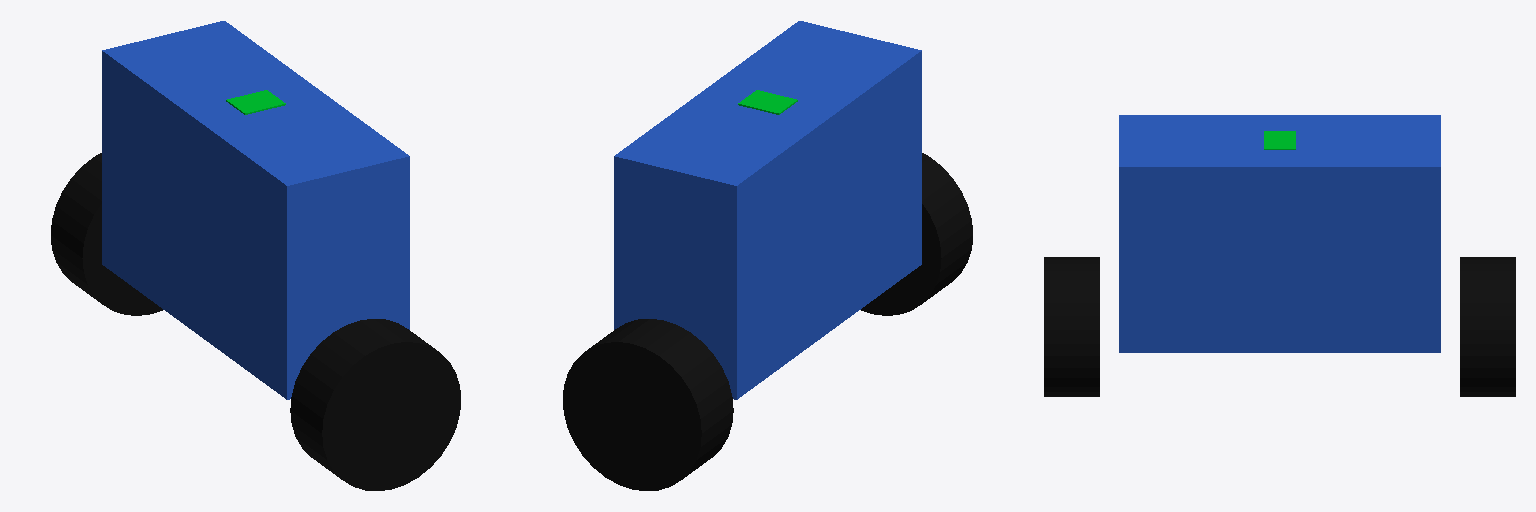
URDF robot description (balancebot_v3):
<?xml version="1.0" ?>
<!--
  balancebot_v3.urdf
  ==========================================

  PHYSICAL PARAMETERS (all measured/confirmed):
    Wheel radius:   0.03405m  (68.1mm diameter / 2, caliper measured)
    Wheel width:    0.027m    (27.0mm, caliper measured)
    Wheelbase:      0.203m    (centre-to-centre, derived below)
    Body width (Y): 0.157m    (15.7cm, measured)
    Body height(Z): 0.100m    (10.0cm, measured)
    Body depth (X): 0.060m    (estimated, adjust if needed)
    Body mass:      0.500kg   (estimate, weigh after assembly)

  WHEELBASE DERIVATION:
    Total measured span (L wheel centre → R wheel centre) = 20.3cm
    Box width = 15.7cm → half = 7.85cm
    Gap each side = (20.3 - 15.7) / 2 = 2.3cm
    Wheel centre Y offset = 7.85 + 2.3 = 10.15cm = 0.1015m
    Full wheelbase = 2 × 0.1015 = 0.203m

  MOTOR: Cytron SPG30-20K
    12V, 225RPM, 128mNm torque, 20:1 gear ratio
    No encoder — velocity observations removed

  IMU: MPU6050
    Mounted at TOP of body, perfectly centred
    Provides: pitch, pitch_rate, yaw, yaw_rate
    In PyBullet: readings come from getBasePositionAndOrientation()
                 and getBaseVelocity() on base_link
    The imu_link here represents physical mass/position of MPU6050
    so centre of mass calculation is accurate

  COORDINATE SYSTEM:
    X = forward/backward
    Y = left/right
    Z = up (gravity = -Z)

  SPAWN HEIGHT = wheel radius = 0.03405m
  so wheels sit exactly on ground plane at Z=0

  JOINT INDICES (used in balance_env_v2.py):
    joint 1 = left wheel
    joint 2 = right wheel
    joint 3 = imu (fixed — no movement)
-->

<robot name="balancebot_v3">

  <!-- ═══════════════════════════════════════════════════════════
       BASE LINK (robot body frame)
       Origin at wheel axle level, centred left-right and front-back
       Visual origin offset upward by half body height (0.05m)
  ═══════════════════════════════════════════════════════════ -->
  <link name="base_link">
    <visual>
      <origin xyz="0 0 0.05" rpy="0 0 0"/>
      <geometry>
        <!-- depth(X)=0.06  width(Y)=0.157  height(Z)=0.10 -->
        <box size="0.06 0.157 0.10"/>
      </geometry>
      <material name="blue">
        <color rgba="0.2 0.4 0.8 1.0"/>
      </material>
    </visual>
    <collision>
      <origin xyz="0 0 0.05" rpy="0 0 0"/>
      <geometry>
        <box size="0.06 0.157 0.10"/>
      </geometry>
    </collision>
    <inertial>
      <origin xyz="0 0 0.05" rpy="0 0 0"/>
      <mass value="0.500"/>
      <!--
        Inertia for box: depth(X)=0.06, width(Y)=0.157, height(Z)=0.10, mass=0.5kg
        ixx = m/12 * (Y² + Z²) = 0.5/12 * (0.157² + 0.10²) = 0.00144
        iyy = m/12 * (X² + Z²) = 0.5/12 * (0.06²  + 0.10²) = 0.00057
        izz = m/12 * (X² + Y²) = 0.5/12 * (0.06²  + 0.157²)= 0.00118
      -->
      <inertia ixx="0.00144" ixy="0.0" ixz="0.0"
               iyy="0.00057" iyz="0.0"
               izz="0.00118"/>
    </inertial>
  </link>

  <!-- ═══════════════════════════════════════════════════════════
       IMU LINK (MPU6050)
       Mounted at TOP of body frame, perfectly centred
       Fixed joint — does not move relative to body
       Mass included so CoM calculation is accurate
  ═══════════════════════════════════════════════════════════ -->
  <link name="imu_link">
    <visual>
      <origin xyz="0 0 0" rpy="0 0 0"/>
      <geometry>
        <!-- MPU6050 physical size: 20mm × 16mm × 1.5mm -->
        <box size="0.02 0.016 0.0015"/>
      </geometry>
      <material name="green">
        <color rgba="0.0 0.8 0.2 1.0"/>
      </material>
    </visual>
    <collision>
      <origin xyz="0 0 0" rpy="0 0 0"/>
      <geometry>
        <box size="0.02 0.016 0.0015"/>
      </geometry>
    </collision>
    <inertial>
      <origin xyz="0 0 0" rpy="0 0 0"/>
      <!-- MPU6050 weighs approximately 1g = 0.001kg -->
      <mass value="0.001"/>
      <inertia ixx="0.0000001" ixy="0.0" ixz="0.0"
               iyy="0.0000001" iyz="0.0"
               izz="0.0000001"/>
    </inertial>
  </link>

  <!-- Fixed joint — IMU rigidly attached at top of body, centred -->
  <joint name="imu_joint" type="fixed">
    <parent link="base_link"/>
    <child link="imu_link"/>
    <!--
      Top of body = 0.10m above axle, centred in X and Y
    -->
    <origin xyz="0 0 0.10" rpy="0 0 0"/>
  </joint>

  <!-- ═══════════════════════════════════════════════════════════
       LEFT WHEEL
       y offset = -wheelbase/2 = -0.1015m from centre
  ═══════════════════════════════════════════════════════════ -->
  <link name="left_wheel">
    <visual>
      <origin xyz="0 0 0" rpy="1.5707963 0 0"/>
      <geometry>
        <cylinder radius="0.03405" length="0.027"/>
      </geometry>
      <material name="black">
        <color rgba="0.1 0.1 0.1 1.0"/>
      </material>
    </visual>
    <collision>
      <origin xyz="0 0 0" rpy="1.5707963 0 0"/>
      <geometry>
        <cylinder radius="0.03405" length="0.027"/>
      </geometry>
    </collision>
    <inertial>
      <origin xyz="0 0 0" rpy="1.5707963 0 0"/>
      <mass value="0.050"/>
      <!--
        Inertia for cylinder: radius=0.03405, length=0.027, mass=0.05kg
        ixx=iyy = m/12 * (3r² + l²) = 0.05/12 * (3×0.03405² + 0.027²) = 0.0000175
        izz     = m/2  * r²         = 0.05/2  * 0.03405²               = 0.0000290
      -->
      <inertia ixx="0.0000175" ixy="0.0" ixz="0.0"
               iyy="0.0000175" iyz="0.0"
               izz="0.0000290"/>
    </inertial>
  </link>

  <joint name="left_wheel_joint" type="continuous">
    <parent link="base_link"/>
    <child link="left_wheel"/>
    <!--
      y length = 0.15m + gap (2.3cm) + gap (2.3cm) = 0.203m
      y = -wheelbase/2 = -(0.203/2) = -0.1015m
      Wheelbase derivation: box_half(7.85cm) + gap(2.3cm) = 10.15cm
    -->
    <origin xyz="0 -0.1015 0" rpy="0 0 0"/>
    <axis xyz="0 1 0"/>
    <dynamics damping="0.01" friction="0.01"/>
  </joint>

  <!-- ═══════════════════════════════════════════════════════════
       RIGHT WHEEL
       y offset = +wheelbase/2 = +0.1015m from centre
  ═══════════════════════════════════════════════════════════ -->
  <link name="right_wheel">
    <visual>
      <origin xyz="0 0 0" rpy="1.5707963 0 0"/>
      <geometry>
        <cylinder radius="0.03405" length="0.027"/>
      </geometry>
      <material name="black">
        <color rgba="0.1 0.1 0.1 1.0"/>
      </material>
    </visual>
    <collision>
      <origin xyz="0 0 0" rpy="1.5707963 0 0"/>
      <geometry>
        <cylinder radius="0.034" length="0.027"/>
      </geometry>
    </collision>
    <inertial>
      <origin xyz="0 0 0" rpy="1.5707963 0 0"/>
      <mass value="0.050"/>
      <inertia ixx="0.0000175" ixy="0.0" ixz="0.0"
               iyy="0.0000175" iyz="0.0"
               izz="0.0000290"/>
    </inertial>
  </link>

  <joint name="right_wheel_joint" type="continuous">
    <parent link="base_link"/>
    <child link="right_wheel"/>
    <!--
      y = +wheelbase/2 = +(0.203/2) = +0.1015m
    -->
    <origin xyz="0 0.1015 0" rpy="0 0 0"/>
    <axis xyz="0 1 0"/>
    <dynamics damping="0.01" friction="0.01"/>
  </joint>

</robot>

--- Render facts (derived) ---
3 views of the same robot in one strip: view 1: azimuth 30°, elevation 25°; view 2: azimuth 150°, elevation 25°; view 3: azimuth 270°, elevation 25° (orthographic).
Model balancebot_v3 with 4 links and 3 joints (2 continuous, 1 fixed), rooted at base_link, posed all joints at 0.
Visible links, largest first — view 1: base_link, left_wheel, right_wheel, imu_link; view 2: base_link, right_wheel, left_wheel, imu_link; view 3: base_link, left_wheel, right_wheel, imu_link.
Boxes of the visible links, x1,y1,x2,y2 form: base_link: (102,21,409,399); left_wheel: (290,319,460,490); right_wheel: (51,153,162,315); imu_link: (226,90,285,114); base_link: (614,21,921,399); right_wheel: (563,319,733,490); left_wheel: (861,153,972,315); imu_link: (738,90,797,114); base_link: (1119,115,1440,352); left_wheel: (1044,257,1099,396); right_wheel: (1460,257,1515,396); imu_link: (1264,131,1295,149).
Size in the robot's own frame: 0.0681 by 0.23 by 0.1348 metres.
Geometry: primitives only (box / cylinder / sphere), no mesh files.
